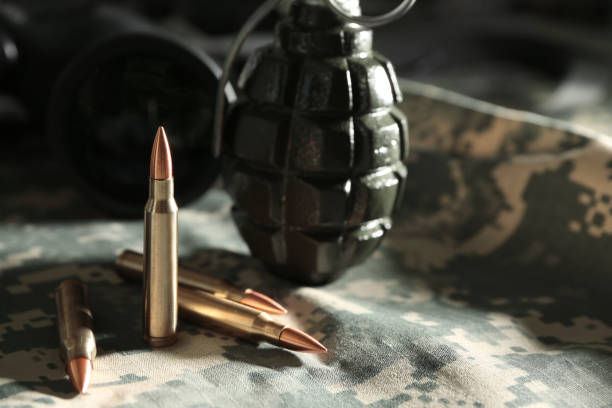e1: (214, 2, 417, 283)
